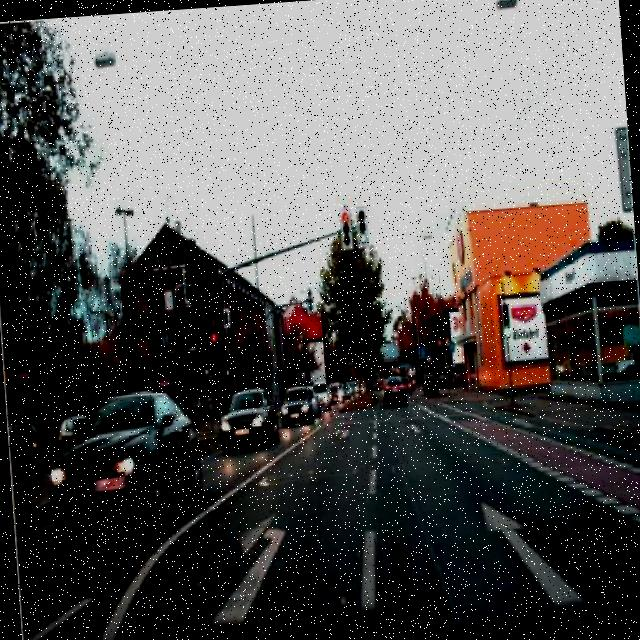Zakaz wjazdu: (14, 363, 32, 390), (156, 370, 174, 394)
